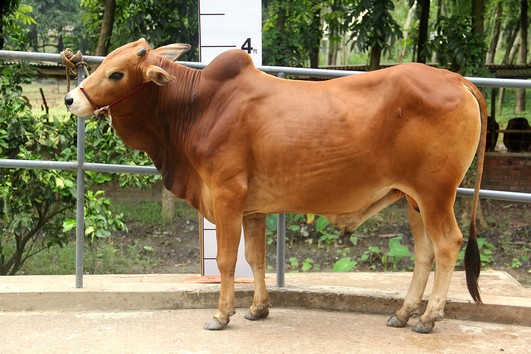cow: (64, 33, 484, 338)
